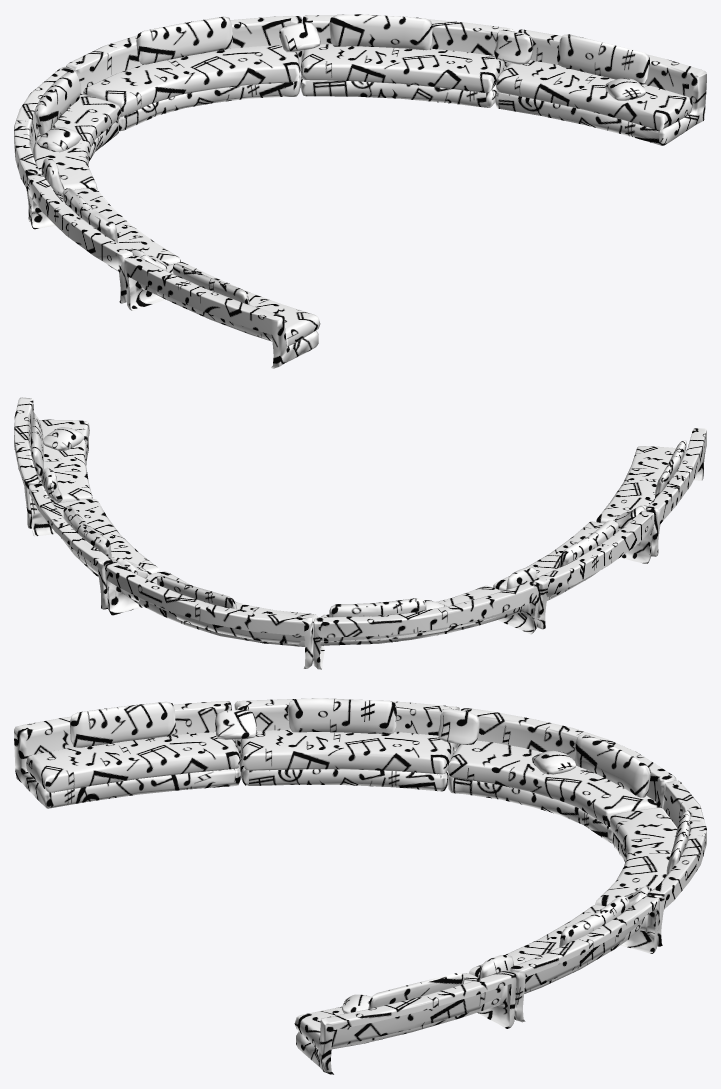
Rendered from couches.obj.
The picture shows the model from 3 angles, top to bottom: view 1: azimuth 30°, elevation 25°; view 2: azimuth 150°, elevation 25°; view 3: azimuth 270°, elevation 25°; orthographic projection. The views are drawn at different scales.
Visible parts, largest first — view 1: combined_Combined_Mesh_(root:_scene).074; view 2: combined_Combined_Mesh_(root:_scene).074; view 3: combined_Combined_Mesh_(root:_scene).074.
Part boxes in pixels (box(x1,y1,x2,y2)): combined_Combined_Mesh_(root:_scene).074: box(14, 14, 706, 368); combined_Combined_Mesh_(root:_scene).074: box(14, 397, 706, 669); combined_Combined_Mesh_(root:_scene).074: box(14, 698, 706, 1074).
Bounding box in the file's own units: 12.53 × 1.17 × 11.29.
Materials: 1 (1 with a texture image).
